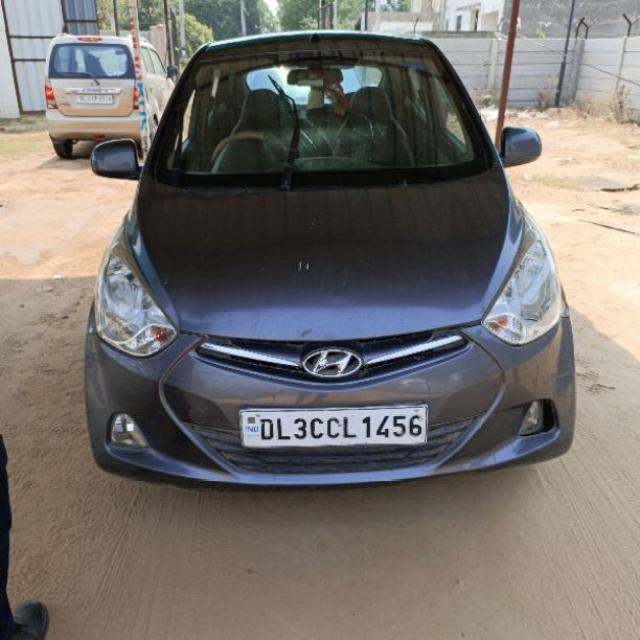license_plate: (237, 402, 429, 448)
